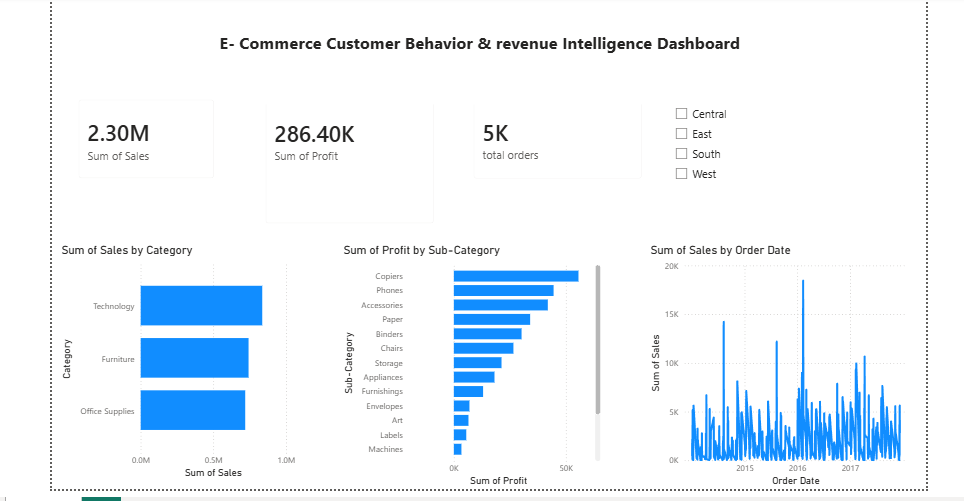

Layout of this report page (visuals, bound fields, positions):
{"tool":"powerbi","page":{"name":"Page 1","canvas":[1280,720],"ordinal":0},"visuals":[{"type":"cardVisual","fields":{"Data":["Sum(Sample - Superstore.Profit)"]},"box":[295.6,70.2,281,278],"z":0},{"type":"cardVisual","fields":{"Data":["Sample - Superstore.total orders"]},"box":[599.7,131,280.5,151.2],"z":1000},{"type":"lineChart","fields":{"Y":["Sum(Sample - Superstore.Sales)"],"Category":["Sample - Superstore.Order Date"]},"box":[870.1,359.5,388,361.2],"z":2000},{"type":"clusteredBarChart","fields":{"Category":["Sample - Superstore.Category"],"Y":["Sum(Sample - Superstore.Sales)"]},"box":[8.4,359.5,352.8,349.4],"z":3000},{"type":"slicer","fields":{"Values":["Sample - Superstore.Region"]},"box":[900,133.2,279.5,150.7],"z":4000},{"type":"clusteredBarChart","fields":{"Category":["Sample - Superstore.Sub-Category"],"Y":["Sum(Sample - Superstore.Profit)"]},"box":[421.6,359.5,386.4,361.2],"z":5000},{"type":"textbox","box":[240.2,13.4,900.4,144.5],"z":6000},{"type":"cardVisual","fields":{"Data":["Sum(Sample - Superstore.Sales)"]},"box":[22,133.2,232.7,149.3],"z":7000}]}

Visuals, with their boxes on the page's 1280x720 design canvas (x1, y1, x2, y2). These are canvas units, not pixel positions in the 964x501 screenshot, which may show the page scaled, cropped or inside an application window:
cardVisual - Sum(Sample - Superstore.Profit): pyautogui.locateOnScreen(296, 70, 577, 348)
cardVisual - Sample - Superstore.total orders: pyautogui.locateOnScreen(600, 131, 880, 282)
lineChart - Sum(Sample - Superstore.Sales) x Sample - Superstore.Order Date: pyautogui.locateOnScreen(870, 360, 1258, 721)
clusteredBarChart - Sample - Superstore.Category x Sum(Sample - Superstore.Sales): pyautogui.locateOnScreen(8, 360, 361, 709)
slicer - Sample - Superstore.Region: pyautogui.locateOnScreen(900, 133, 1180, 284)
clusteredBarChart - Sample - Superstore.Sub-Category x Sum(Sample - Superstore.Profit): pyautogui.locateOnScreen(422, 360, 808, 721)
textbox: pyautogui.locateOnScreen(240, 13, 1141, 158)
cardVisual - Sum(Sample - Superstore.Sales): pyautogui.locateOnScreen(22, 133, 255, 282)
